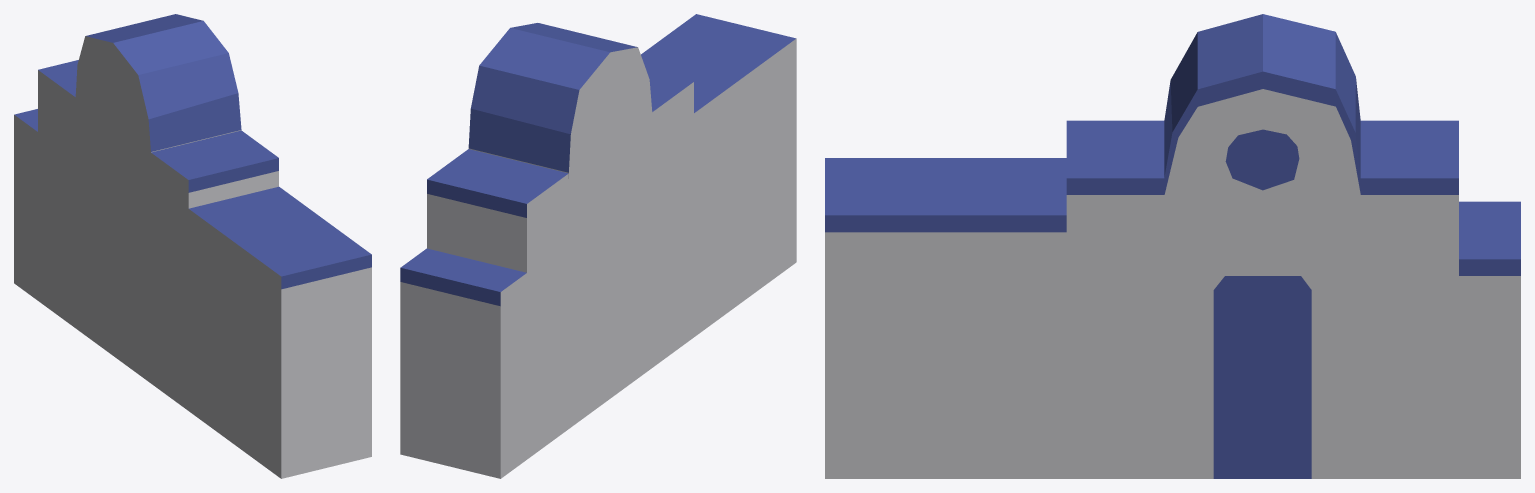
The model's file is Village_far_amatemple.gltf.
3 views of the same model, side by side, from view 1: azimuth 30°, elevation 25°; view 2: azimuth 150°, elevation 25°; view 3: azimuth 270°, elevation 25° (orthographic). The views are drawn at different scales.
Parts seen in each view (by area): view 1: Cube; view 2: Cube; view 3: Cube.
Part boxes in pixels (x1,y1,x2,y2): Cube: (14,14,371,478); Cube: (400,14,796,478); Cube: (825,14,1520,478).
Bounding box in the file's own units: 1 × 3.3 × 5.11.
